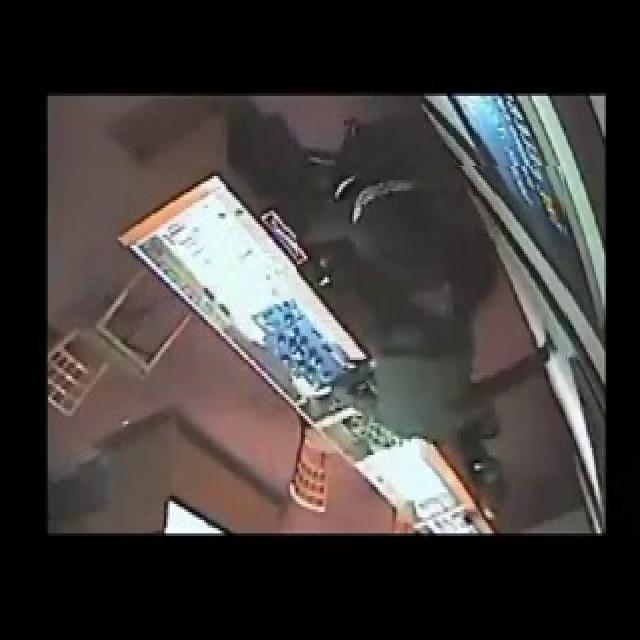Shoplifting: (297, 166, 569, 502)
